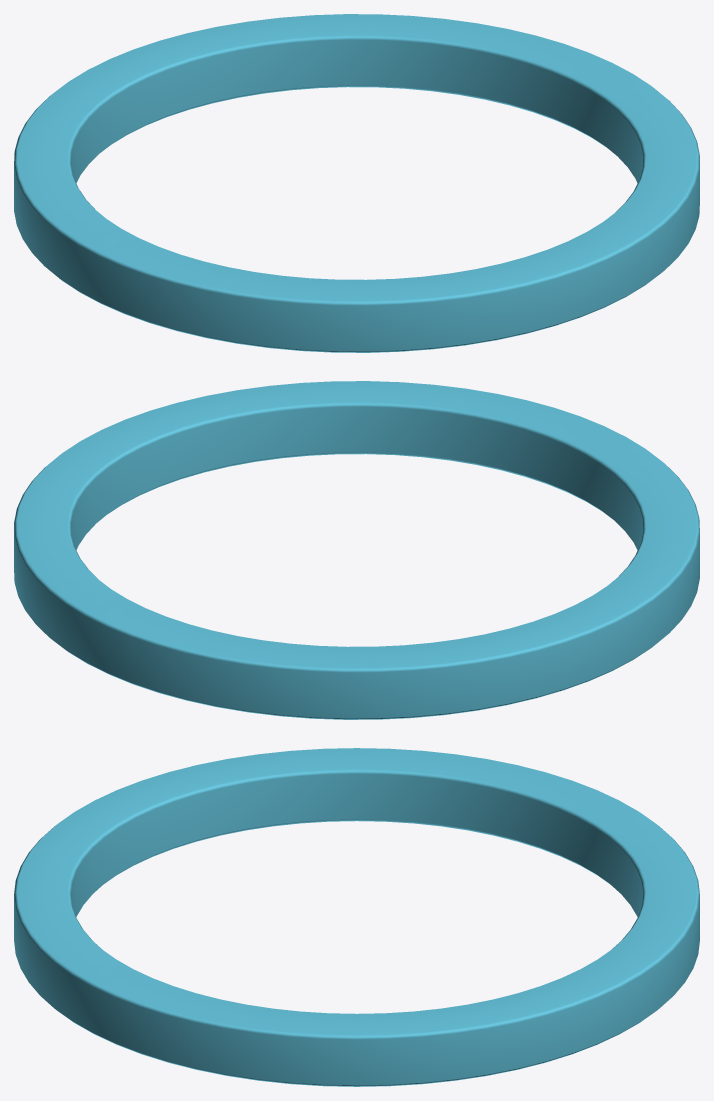
3 renders of one model, top to bottom at view 1: azimuth 30°, elevation 25°; view 2: azimuth 150°, elevation 25°; view 3: azimuth 270°, elevation 25°, orthographic.
Visible parts, largest first — view 1: seal_body; view 2: seal_body; view 3: seal_body.
Part boxes in pixels (x1,y1,x2,y2): seal_body: [14, 14, 699, 352]; seal_body: [14, 381, 699, 719]; seal_body: [14, 748, 699, 1086].
Bounding box in the file's own units: 0.0571 × 0.00476 × 0.0571.
